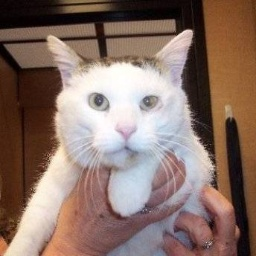cat: (11, 32, 215, 256)
